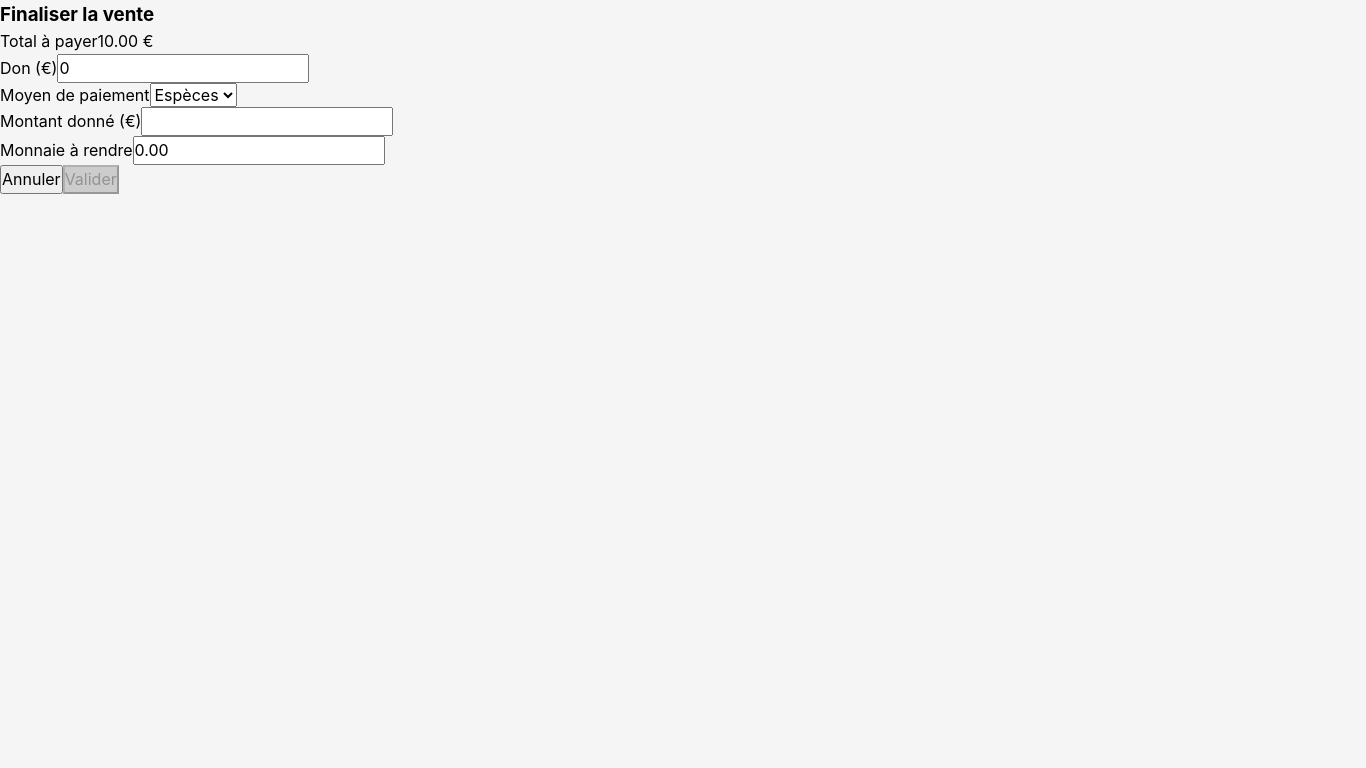
FinalizationScreen › updates amount due when donation changes
This screenshot has width=1366, height=768.
Replace the text in the number field with test id "donation-input" with "2.5" at (183, 68), box [57,54,309,83]
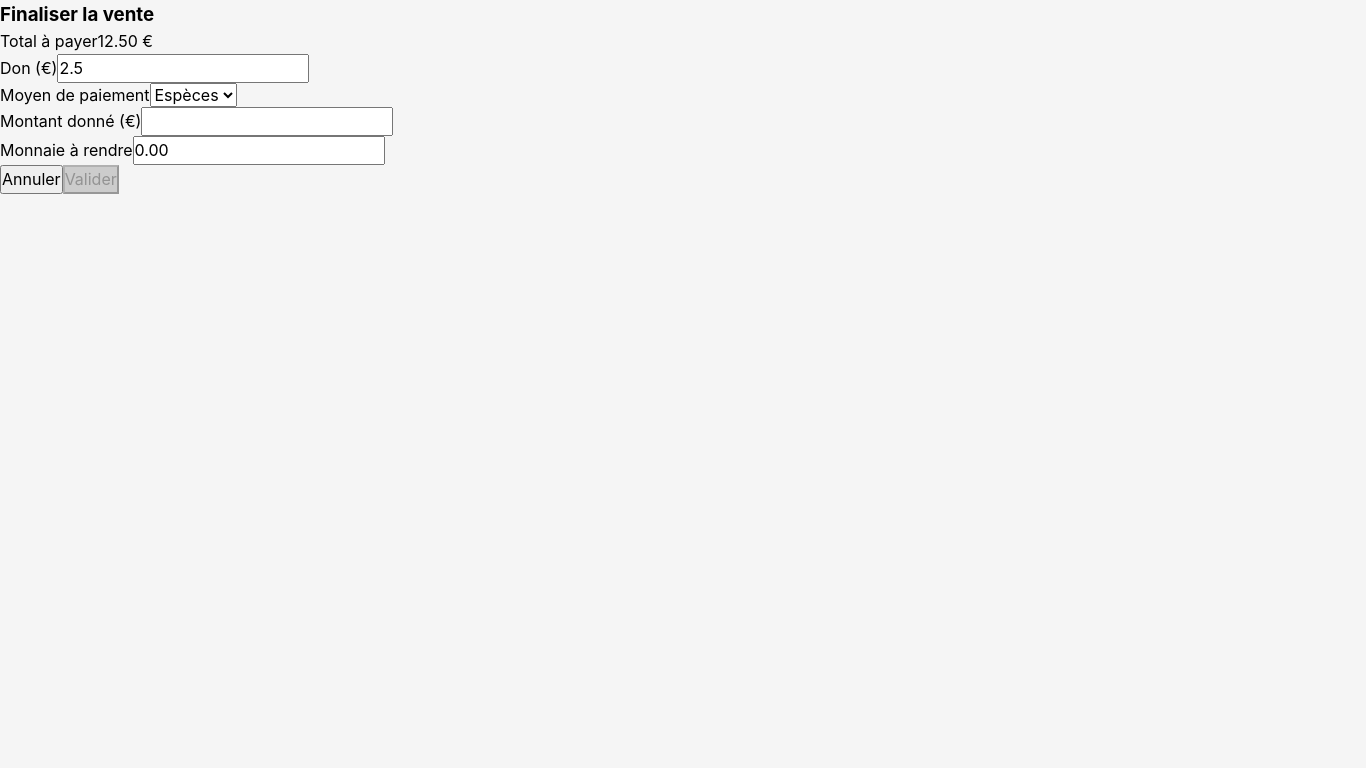
Result: the text with test id "amount-due" reads "12.50 €" at [98,31,153,51]
